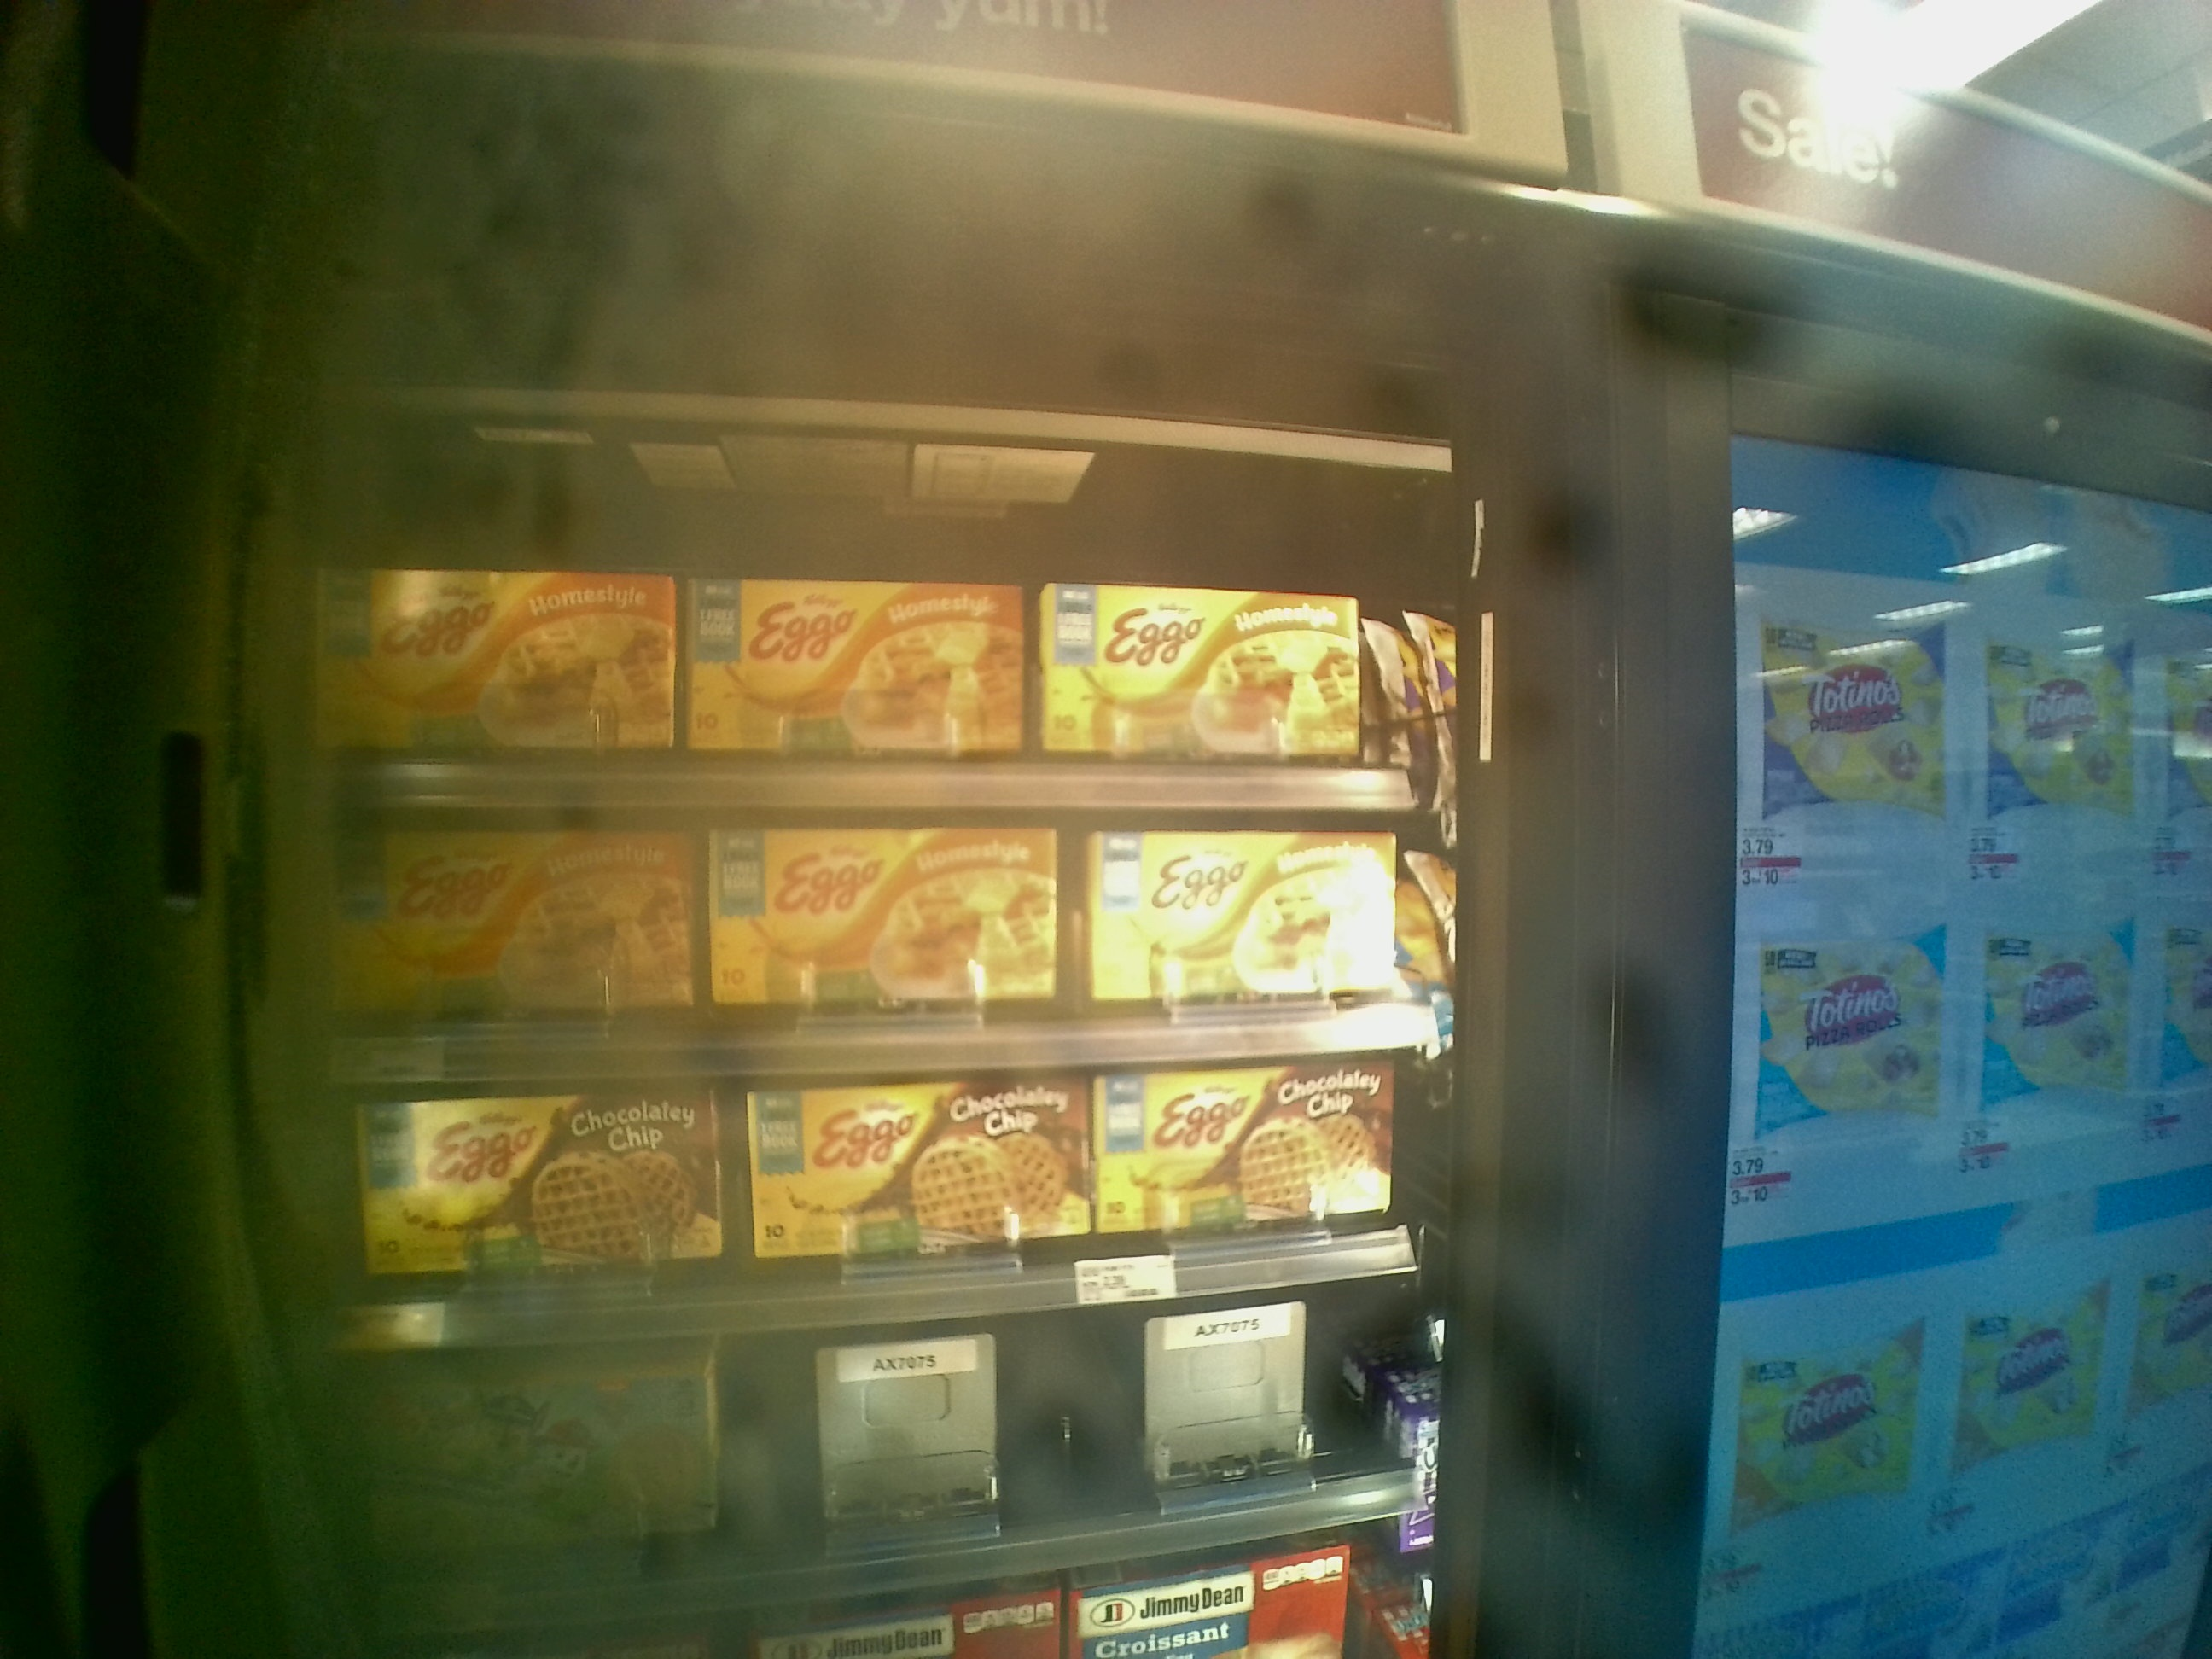shelf: (324, 788, 1458, 1075)
